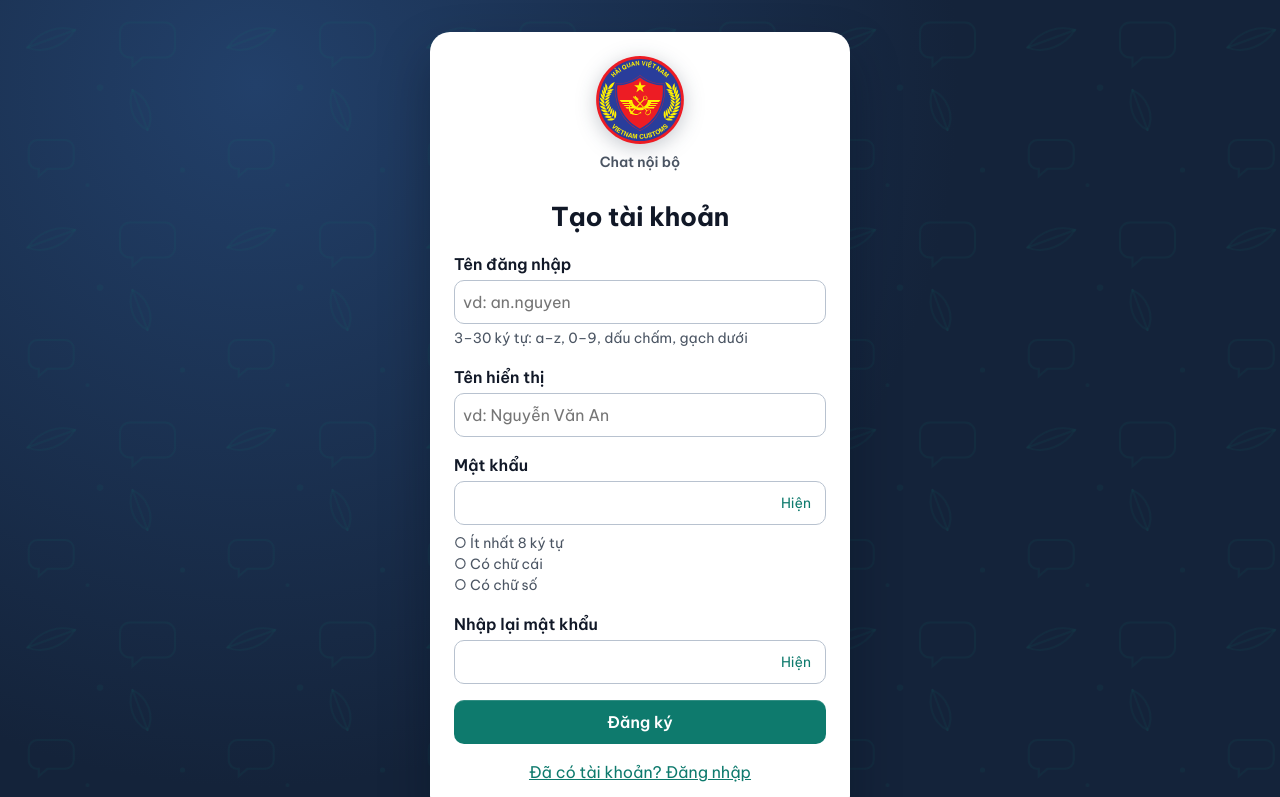
Scenario: SCR-01 Đăng ký › báo lỗi sớm ở trình duyệt, không gửi yêu cầu khi dữ liệu sai
The image size is (1280, 797).
In the field labelled "Tên đăng nhập": [640, 302] box [454, 280, 826, 324], type "an-nguyen"
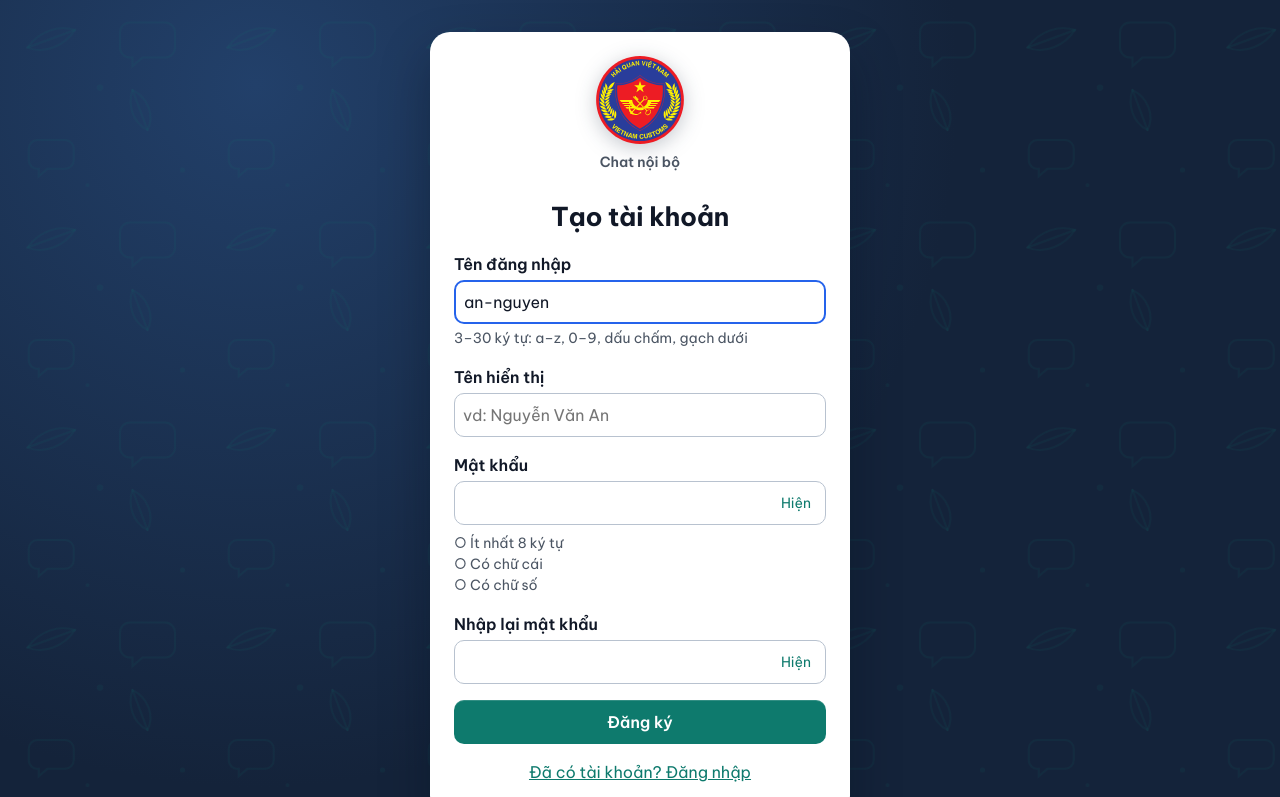
In the password field labelled "Mật khẩu": [640, 503] box [454, 481, 826, 525], type "abcdefgh"
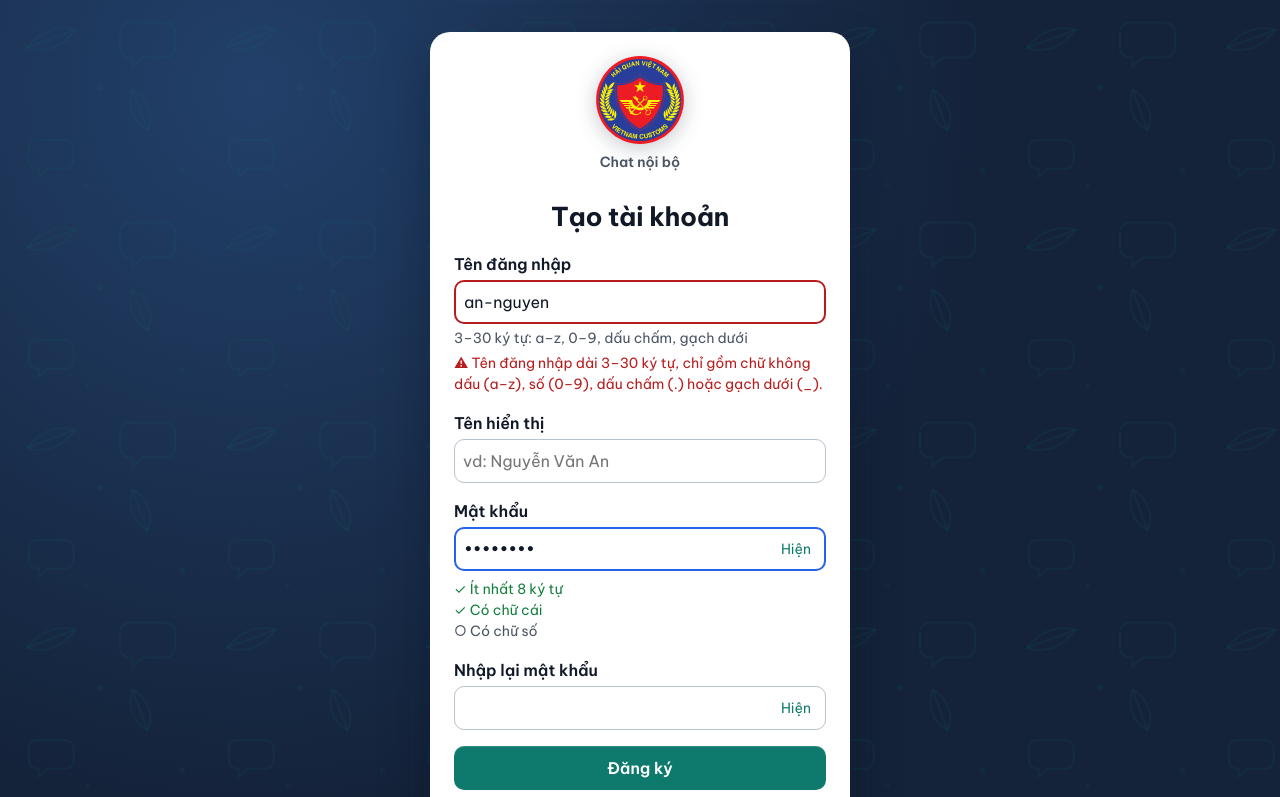
Click the button "Đăng ký": [640, 768] box [454, 746, 826, 790]
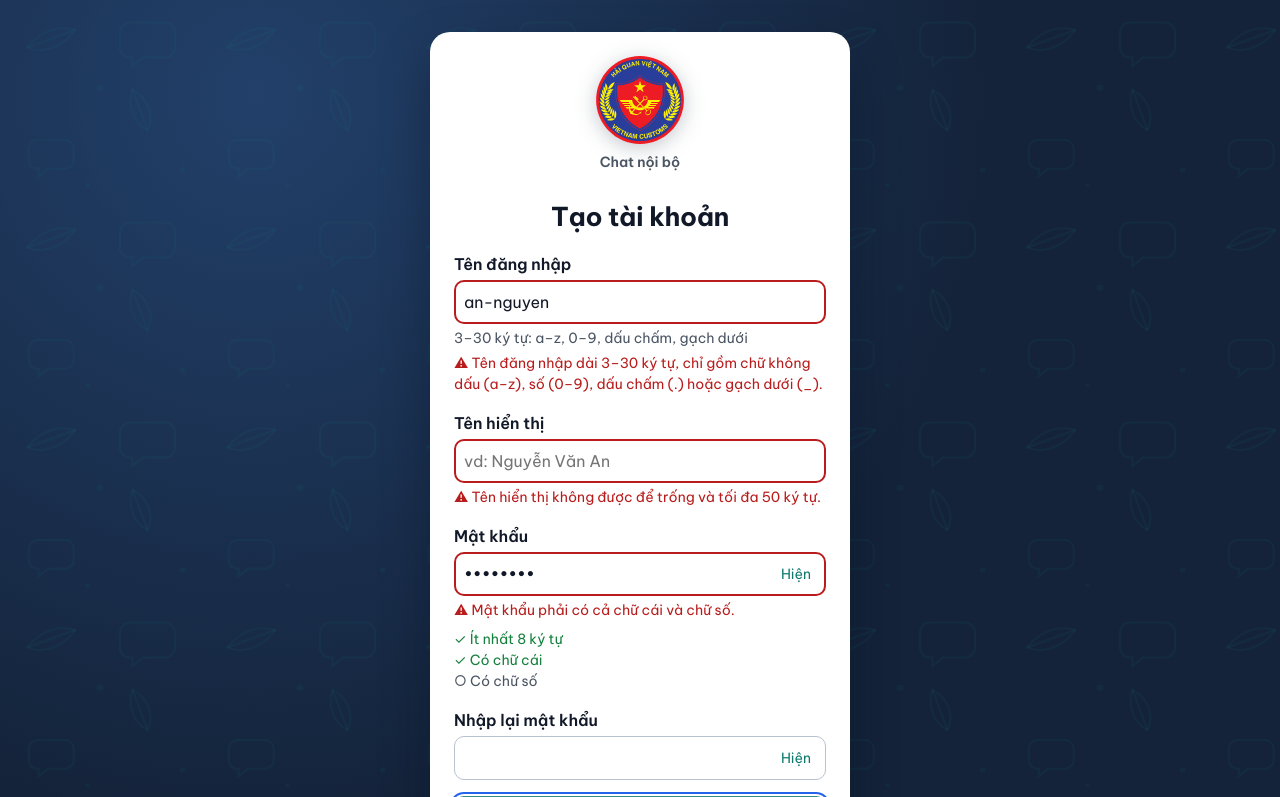
expect the text "Tên đăng nhập dài 3–30 ký tự" is shown: met, box [454, 354, 823, 393]
expect the text "Mật khẩu phải có cả chữ cái và chữ số." is shown: met, box [472, 601, 735, 619]
